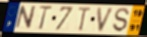7: (55, 6, 76, 32)
N: (14, 5, 38, 30)
S: (112, 7, 131, 33)
T: (38, 5, 54, 31), (77, 6, 93, 32)
V: (97, 7, 116, 33)
